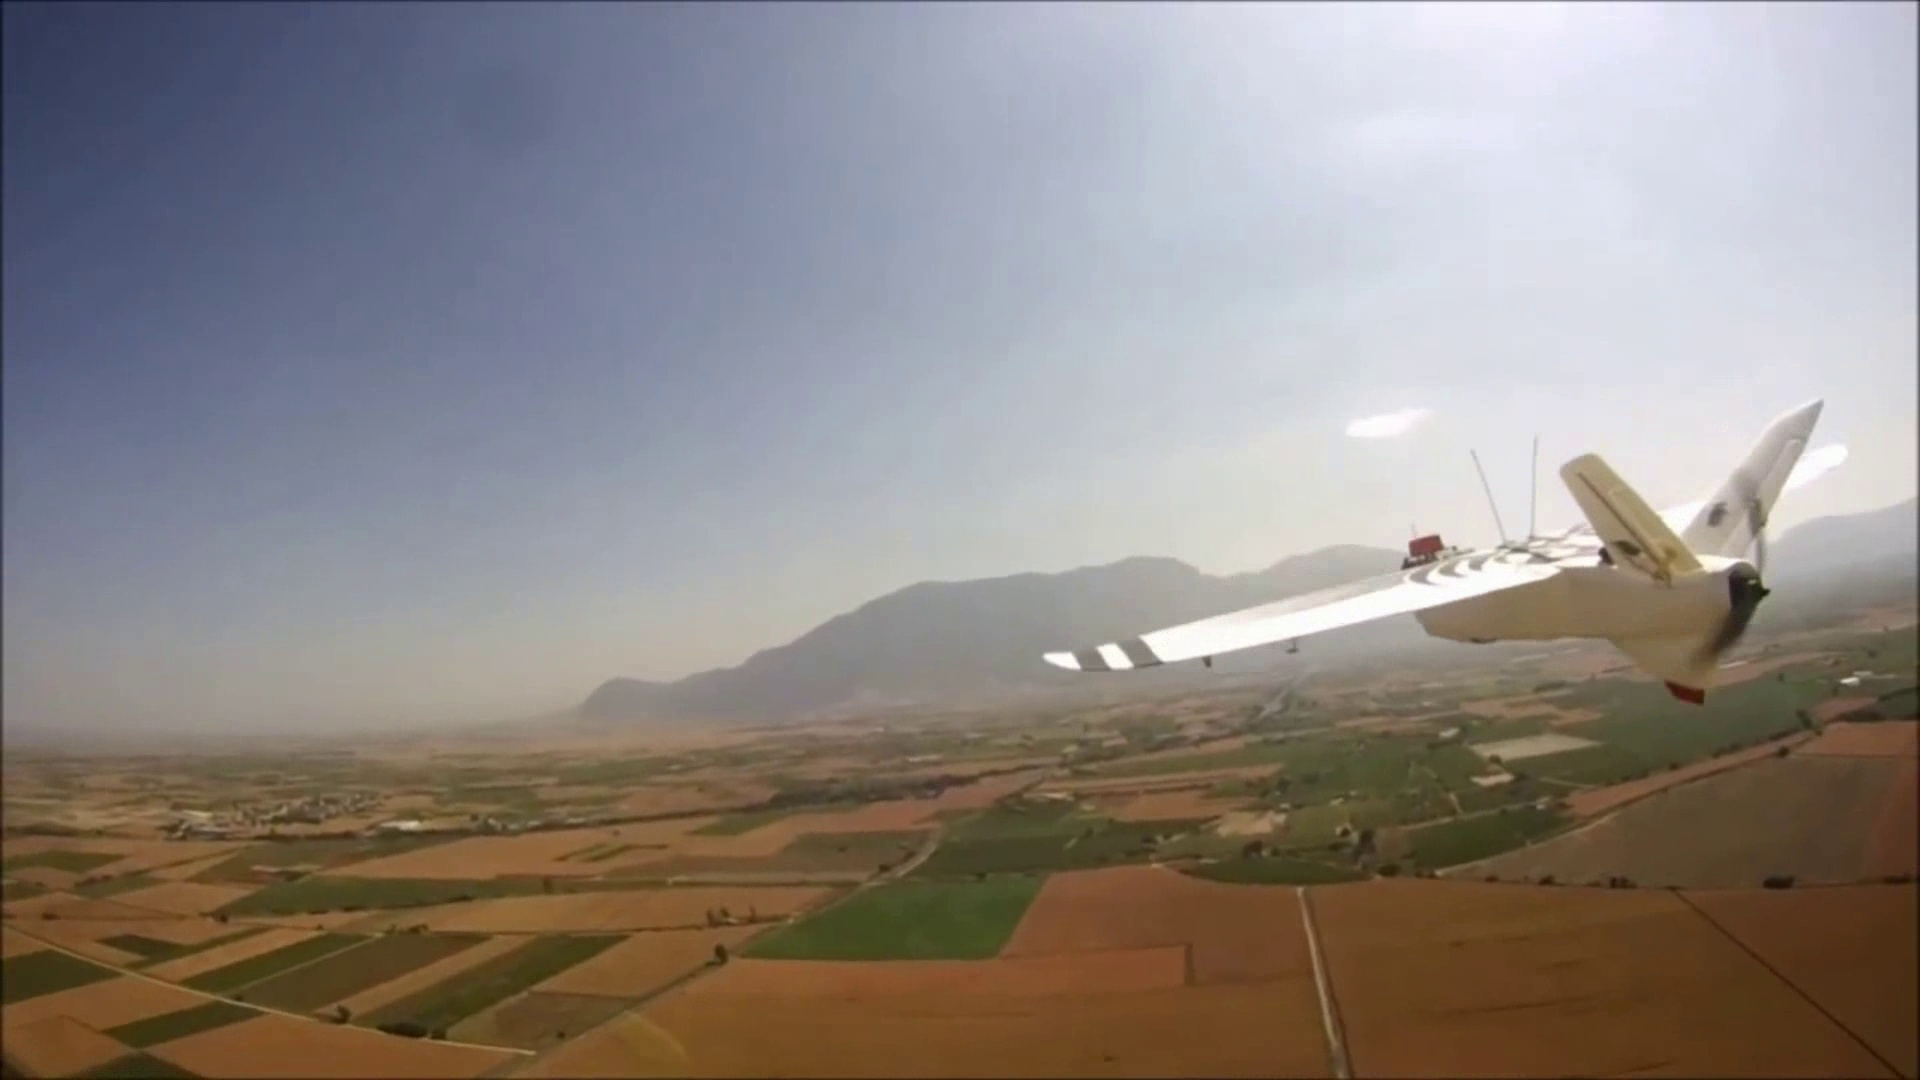airplane: (1041, 398, 1887, 709)
